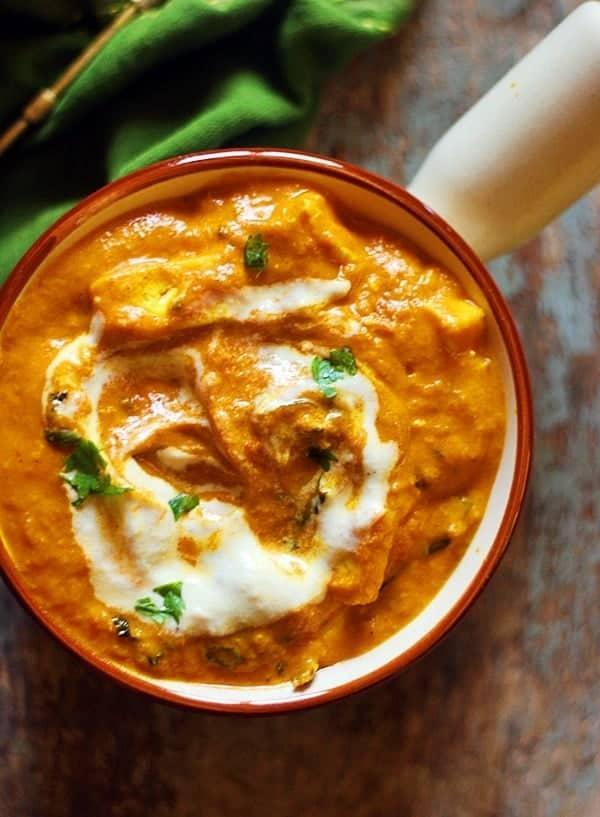paneer: (33, 308, 410, 601)
